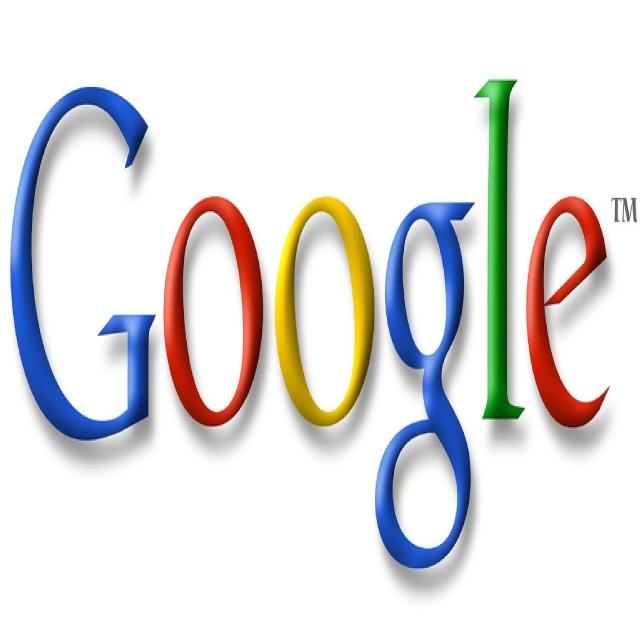google: (2, 48, 627, 583)
